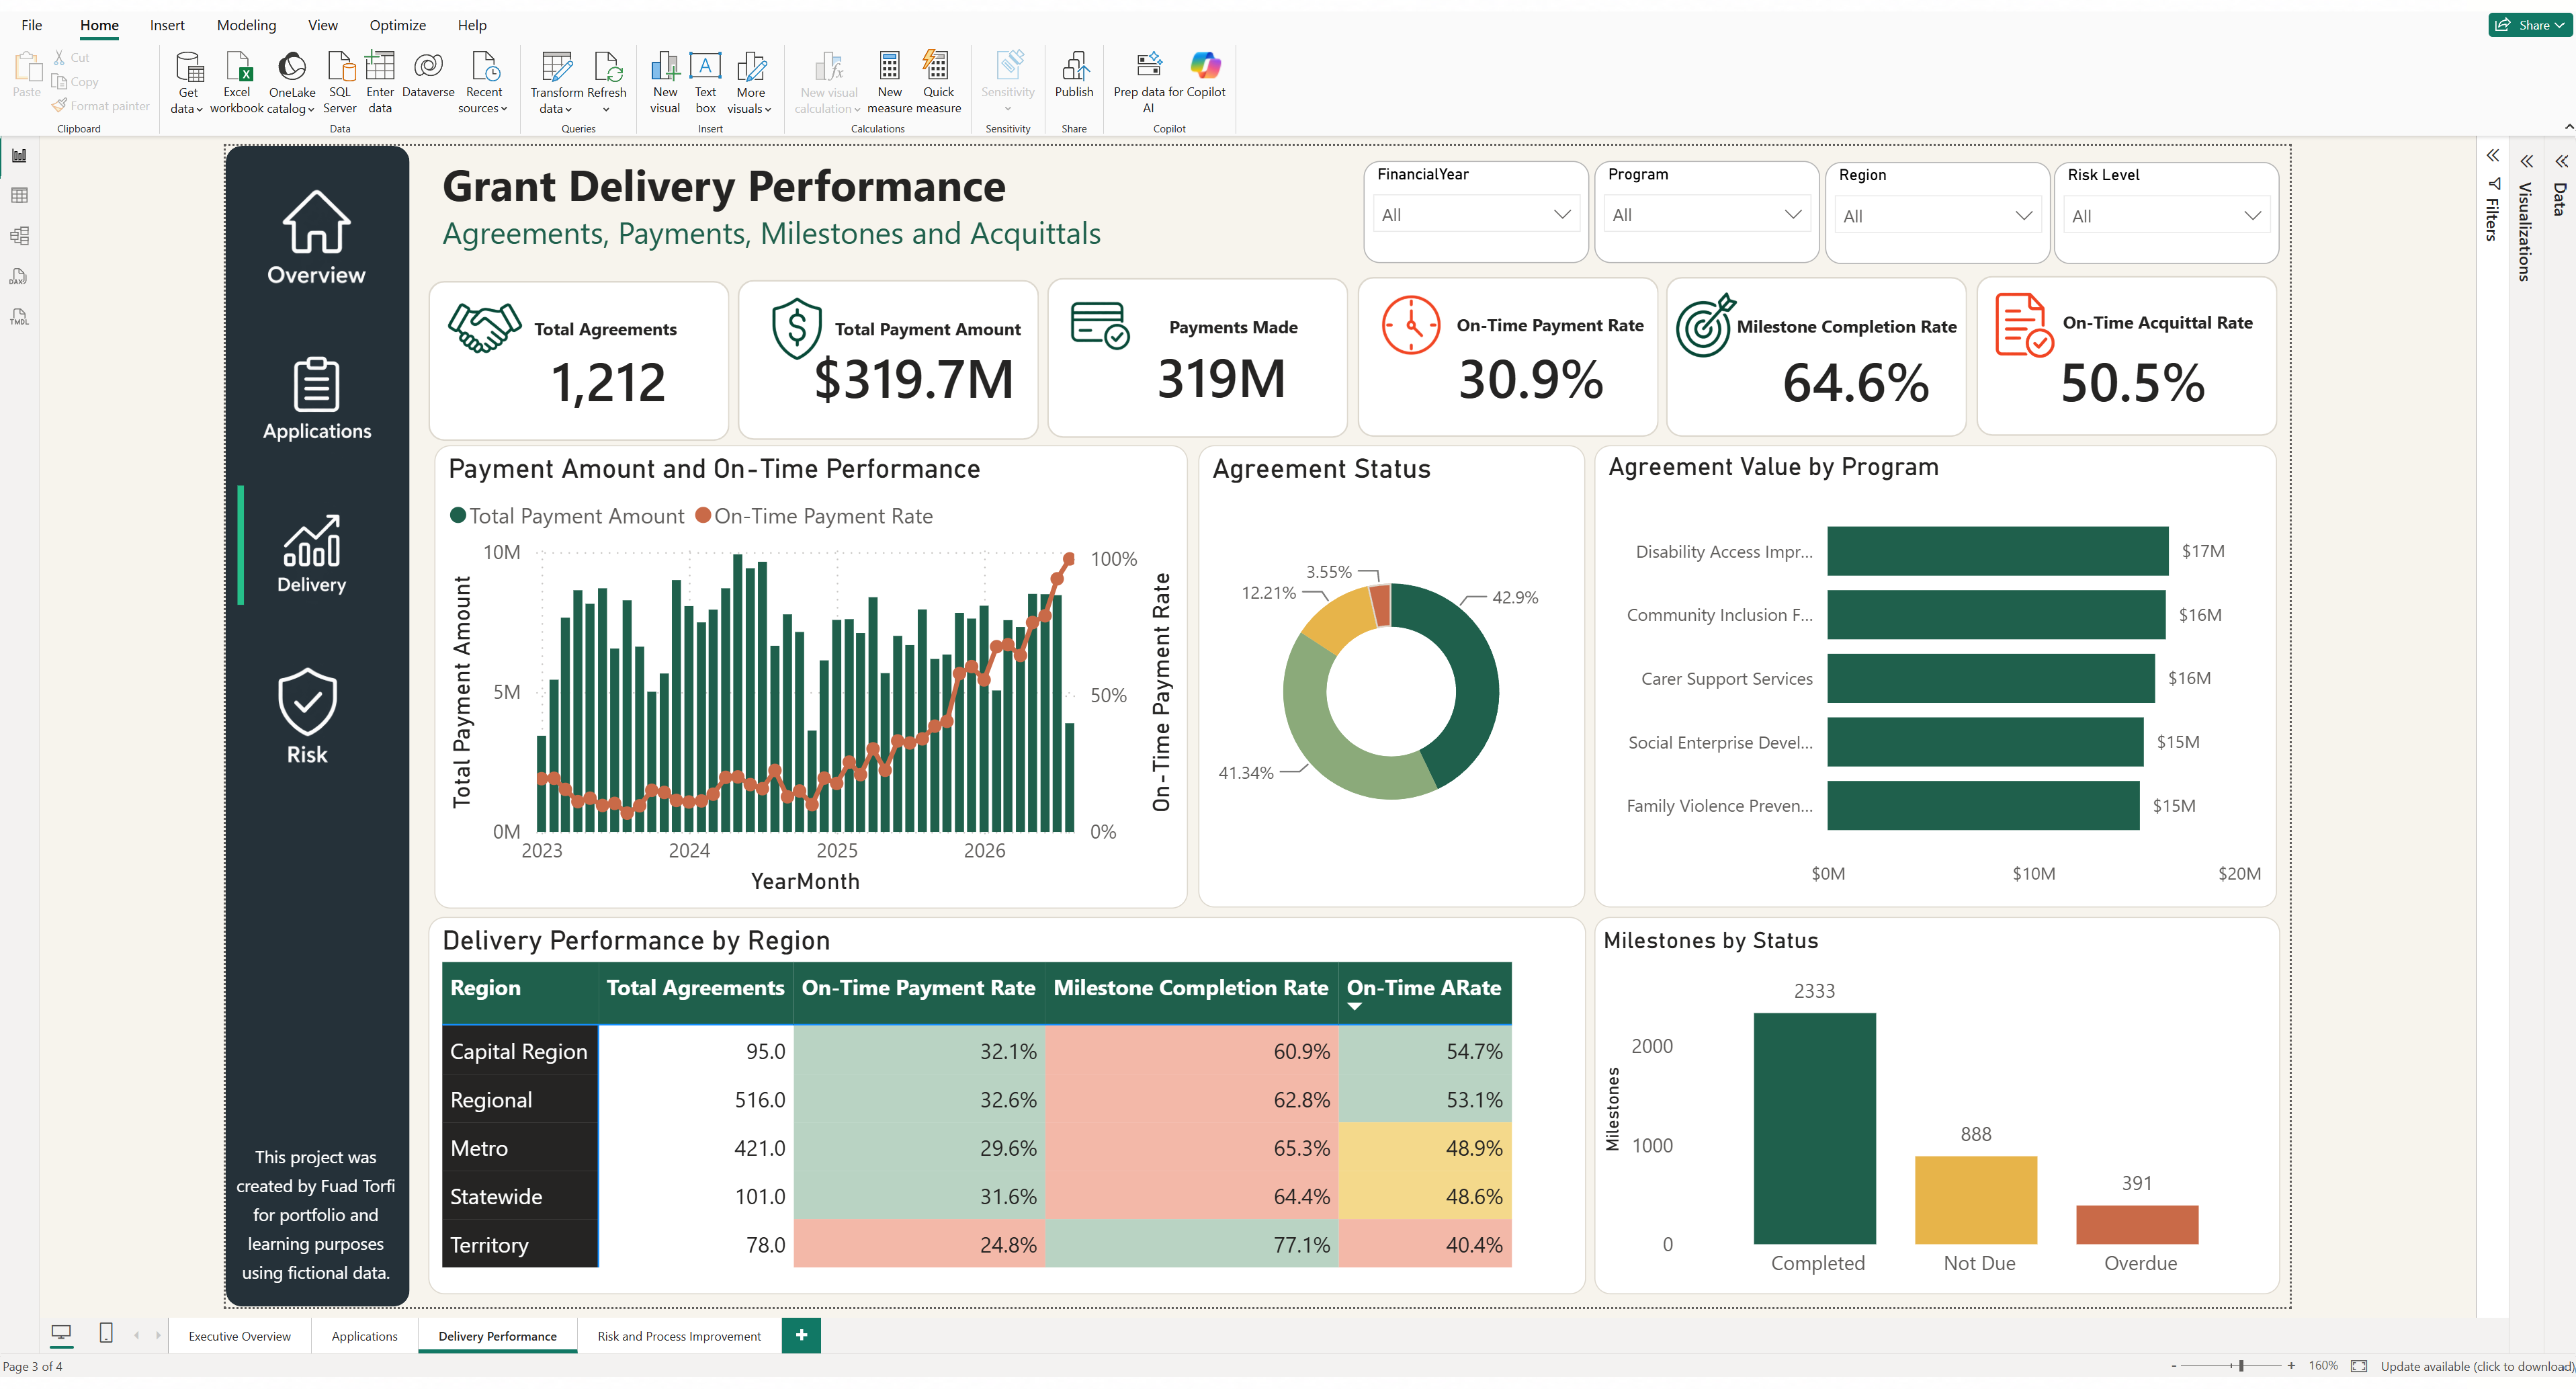

The dashboard page shown, as its layout file describes it:
{"tool":"powerbi","page":{"name":"Delivery Performance","canvas":[1280,720],"ordinal":2},"visuals":[{"type":"shape","box":[0,0,114,719.7],"z":0},{"type":"image","box":[18.4,26.8,76.3,64],"z":1000},{"type":"image","box":[0,129.1,113.6,64],"z":2000},{"type":"image","box":[5.9,220.6,88.8,64],"z":3000},{"type":"image","box":[0,320,100.8,64.2],"z":4000},{"type":"shape","box":[0,210.7,18.6,74.3],"z":5000},{"type":"textbox","box":[129.3,0,570.7,72.7],"z":6000},{"type":"slicer","fields":{"Values":["Date.FinancialYear"]},"box":[705.3,9.3,140,63.3],"z":7000},{"type":"slicer","fields":{"Values":["Programs.ProgramName"]},"box":[848.6,9.5,140,63.2],"z":8000},{"type":"slicer","fields":{"Values":["Applications.Region"]},"box":[991.8,10,140,63.2],"z":9000},{"type":"slicer","fields":{"Values":["Applications.RiskRating"]},"box":[1133.6,10,140,63.2],"z":10000},{"type":"shape","box":[125.7,83.7,186.9,99.2],"z":11000},{"type":"cardVisual","fields":{"Data":["DAX measures.Total Agreements"]},"box":[173.3,106.6,139.3,73.9],"z":12000},{"type":"textbox","box":[158.7,97.5,153.7,30.7],"z":13000},{"type":"image","box":[137.2,92.1,46.8,39.6],"z":14000},{"type":"shape","box":[317.8,82.9,186.9,99.2],"z":15000},{"type":"cardVisual","fields":{"Data":["DAX measures.Total Agreement Value"]},"box":[335,105,207.9,73.6],"z":16000},{"type":"textbox","box":[366.2,97.4,138.6,30.1],"z":17000},{"type":"image","box":[327.6,93.5,48.2,39.6],"z":18000},{"type":"shape","box":[509.6,81.9,186.9,99.2],"z":19000},{"type":"cardVisual","fields":{"Data":["DAX measures.Total Payments"]},"box":[547.9,103.6,148.6,75],"z":20000},{"type":"textbox","box":[548,96,153.8,30.8],"z":21000},{"type":"image","box":[520.8,90.3,43.6,38.9],"z":22000},{"type":"shape","box":[701.6,81.1,186.9,99.2],"z":23000},{"type":"cardVisual","fields":{"Data":["DAX measures.On-Time Payment Rate"]},"box":[735,104.3,157.9,74.3],"z":24000},{"type":"textbox","box":[744.3,95,154.3,30.7],"z":25000},{"type":"image","box":[711.3,92.2,47.6,37.6],"z":26000},{"type":"shape","box":[892.9,81.1,186.9,99.2],"z":27000},{"type":"cardVisual","fields":{"Data":["DAX measures.Milestone Completion Rate"]},"box":[936.5,106,162,74],"z":28000},{"type":"textbox","box":[925,95.7,160.7,30.7],"z":29000},{"type":"image","box":[894.3,90.7,47.9,41.4],"z":30000},{"type":"shape","box":[1085.6,80.7,186.9,99.2],"z":31000},{"type":"textbox","box":[1124.3,92.9,147.9,32.9],"z":32000},{"type":"image","box":[1092.8,90.9,46.4,41.2],"z":33000},{"type":"cardVisual","fields":{"Data":["DAX measures.On-Time Acquittal Rate"]},"box":[1107.9,107.1,172.1,73.6],"z":34000},{"type":"lineClusteredColumnComboChart","title":"Payment Amount and On-Time Performance","fields":{"Category":["Date.YearMonth"],"Y":["DAX measures.Total Payment Amount"],"Y2":["DAX measures.On-Time Payment Rate"]},"box":[129.3,185.7,467.1,287.1],"z":35000},{"type":"donutChart","title":"Agreement Status","fields":{"Category":["Agreements.AgreementStatus"],"Y":["DAX measures.Total Agreements"]},"box":[603.1,185.6,240,286.9],"z":36000},{"type":"clusteredBarChart","title":"Agreement Value by Program","fields":{"Category":["Programs.ProgramName"],"Y":["DAX measures.Total Agreement Value"]},"box":[848.8,185.6,423.1,286.9],"z":37000},{"type":"clusteredColumnChart","title":"Milestones by Status","fields":{"Category":["Milestones.MilestoneStatus"],"Y":["DAX measures.Total Milestones"]},"box":[848.6,477.9,425,234.3],"z":38000},{"type":"pivotTable","title":"Delivery Performance by Region","fields":{"Rows":["Applications.Region"],"Values":["DAX measures.Total Agreements","DAX measures.On-Time Payment Rate","DAX measures.Milestone Completion Rate","DAX measures.On-Time Acquittal Rate"]},"box":[125.7,477.9,717.9,234.3],"z":39000},{"type":"textbox","box":[0,610.6,111.9,109.4],"z":39001}]}

Visuals, with their boxes on the page's 1280x720 design canvas (x1, y1, x2, y2). These are canvas units, not pixel positions in the 2576x1389 screenshot, which may show the page scaled, cropped or inside an application window:
shape: region(0, 0, 114, 720)
image: region(18, 27, 95, 91)
image: region(0, 129, 114, 193)
image: region(6, 221, 95, 285)
image: region(0, 320, 101, 384)
shape: region(0, 211, 19, 285)
textbox: region(129, 0, 700, 73)
slicer - Date.FinancialYear: region(705, 9, 845, 73)
slicer - Programs.ProgramName: region(849, 10, 989, 73)
slicer - Applications.Region: region(992, 10, 1132, 73)
slicer - Applications.RiskRating: region(1134, 10, 1274, 73)
shape: region(126, 84, 313, 183)
cardVisual - DAX measures.Total Agreements: region(173, 107, 313, 180)
textbox: region(159, 98, 312, 128)
image: region(137, 92, 184, 132)
shape: region(318, 83, 505, 182)
cardVisual - DAX measures.Total Agreement Value: region(335, 105, 543, 179)
textbox: region(366, 97, 505, 128)
image: region(328, 94, 376, 133)
shape: region(510, 82, 696, 181)
cardVisual - DAX measures.Total Payments: region(548, 104, 696, 179)
textbox: region(548, 96, 702, 127)
image: region(521, 90, 564, 129)
shape: region(702, 81, 888, 180)
cardVisual - DAX measures.On-Time Payment Rate: region(735, 104, 893, 179)
textbox: region(744, 95, 899, 126)
image: region(711, 92, 759, 130)
shape: region(893, 81, 1080, 180)
cardVisual - DAX measures.Milestone Completion Rate: region(936, 106, 1098, 180)
textbox: region(925, 96, 1086, 126)
image: region(894, 91, 942, 132)
shape: region(1086, 81, 1272, 180)
textbox: region(1124, 93, 1272, 126)
image: region(1093, 91, 1139, 132)
cardVisual - DAX measures.On-Time Acquittal Rate: region(1108, 107, 1280, 181)
"Payment Amount and On-Time Performance" lineClusteredColumnComboChart: region(129, 186, 596, 473)
"Agreement Status" donutChart: region(603, 186, 843, 472)
"Agreement Value by Program" clusteredBarChart: region(849, 186, 1272, 472)
"Milestones by Status" clusteredColumnChart: region(849, 478, 1274, 712)
"Delivery Performance by Region" pivotTable: region(126, 478, 844, 712)
textbox: region(0, 611, 112, 720)
